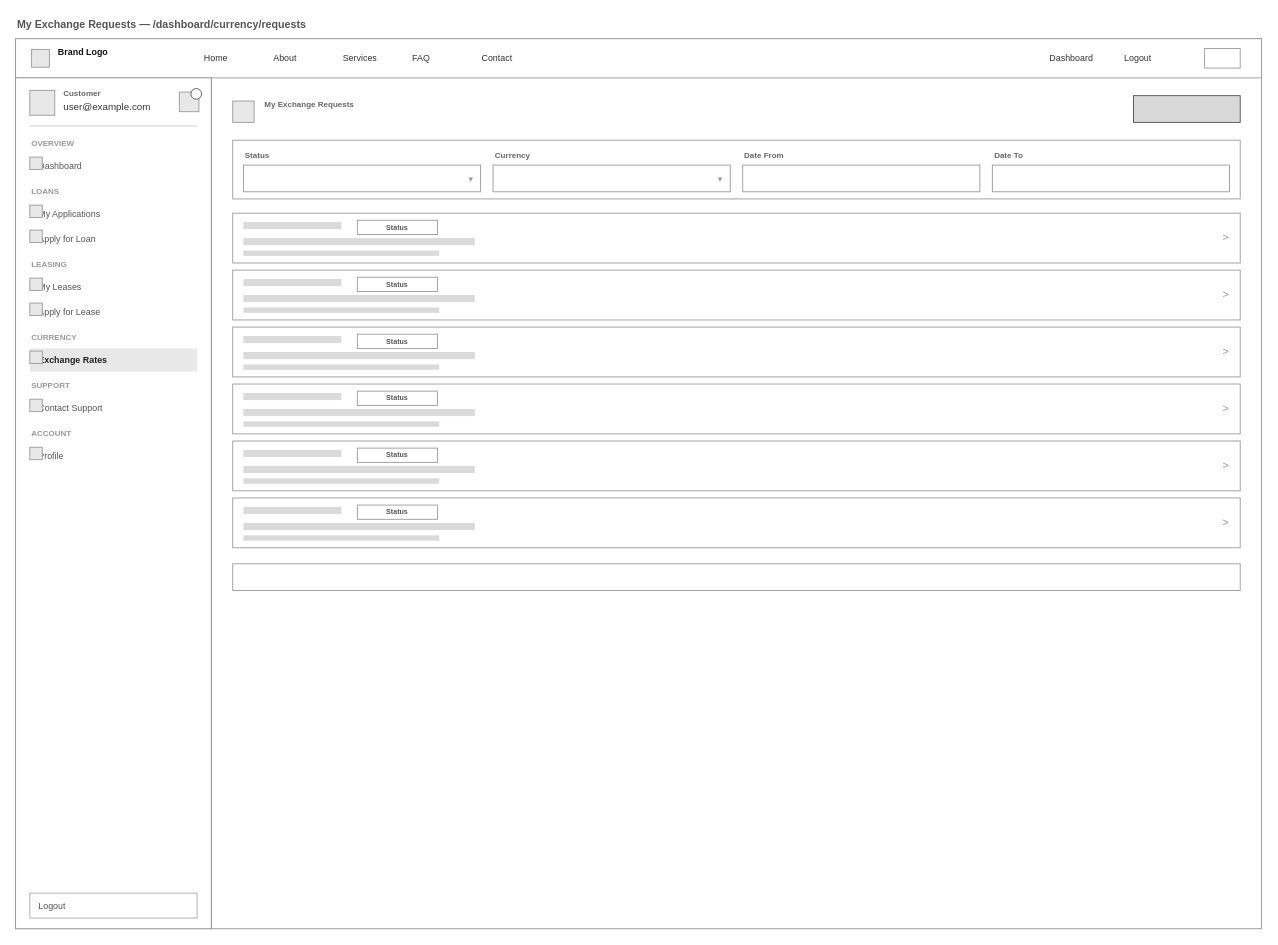
Image size: 1278x945. Some labels were removed from this diagram. The shapes that lost their labels are listed below. From the top down, each one's centre as x and y in pixels, then its label:
At [1222,58]: "EN ▾".
At [1186,108]: "New Exchange".
At [736,577]: "Load More".
